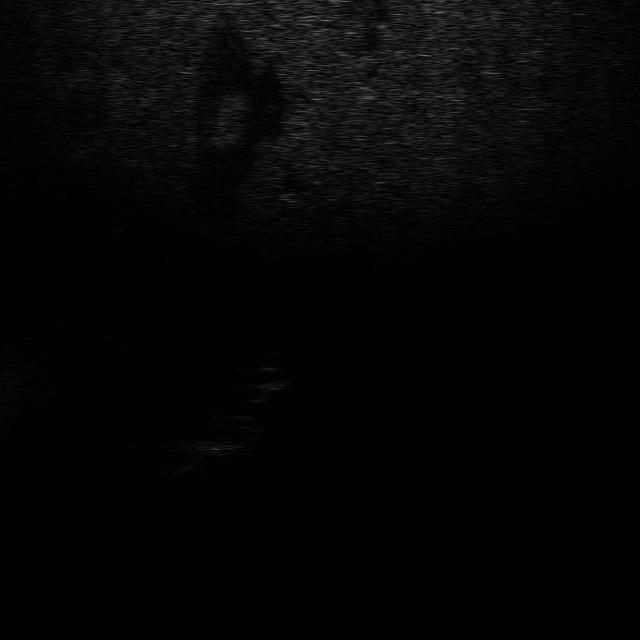ball: (245, 360, 293, 394)
square cage: (170, 435, 239, 475)
tyre: (191, 410, 264, 459)
